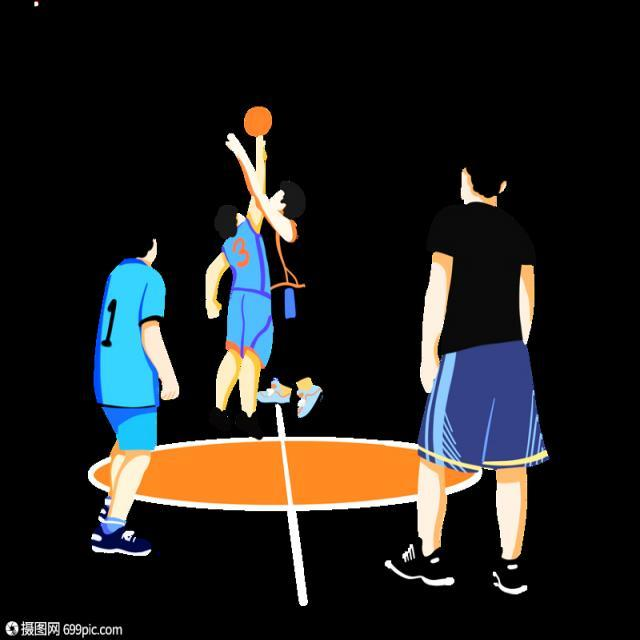rim: (245, 100, 272, 135)
